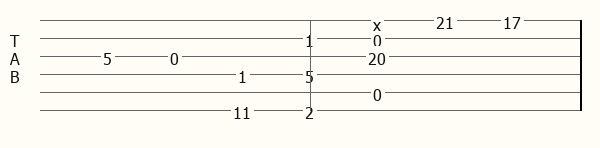0: (170, 48, 183, 64), (373, 30, 386, 46), (373, 84, 386, 100)
1: (238, 66, 251, 82), (305, 30, 318, 46)
11: (233, 102, 255, 118)
17: (503, 12, 525, 28)
2: (305, 102, 318, 118)
20: (368, 48, 390, 64)
21: (436, 12, 458, 28)
5: (103, 48, 116, 64), (305, 66, 318, 82)
x: (373, 14, 385, 27)
